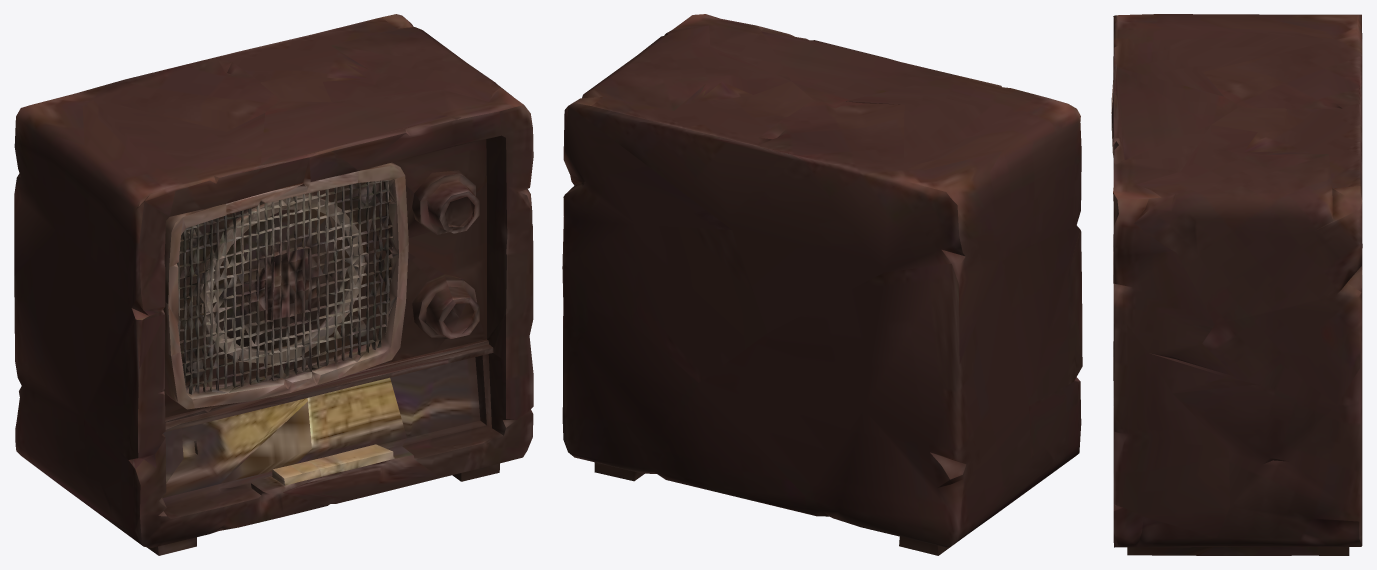
File: item_radio_vintage_idle.glb
3 views of the same model, side by side, from view 1: azimuth 30°, elevation 25°; view 2: azimuth 150°, elevation 25°; view 3: azimuth 270°, elevation 25° (orthographic).
Parts seen in each view (by area): view 1: tripo_node_5a7f41b2-c141-48f2-877b-41142e33e05c; view 2: tripo_node_5a7f41b2-c141-48f2-877b-41142e33e05c; view 3: tripo_node_5a7f41b2-c141-48f2-877b-41142e33e05c.
Boxes of the visible parts, bbox=[...] form: tripo_node_5a7f41b2-c141-48f2-877b-41142e33e05c: bbox=[14, 14, 533, 555]; tripo_node_5a7f41b2-c141-48f2-877b-41142e33e05c: bbox=[562, 14, 1082, 555]; tripo_node_5a7f41b2-c141-48f2-877b-41142e33e05c: bbox=[1111, 14, 1362, 555].
Bounding box in the file's own units: 0.4497 × 0.4022 × 0.2475.
Materials: 1 (1 with a texture image).
